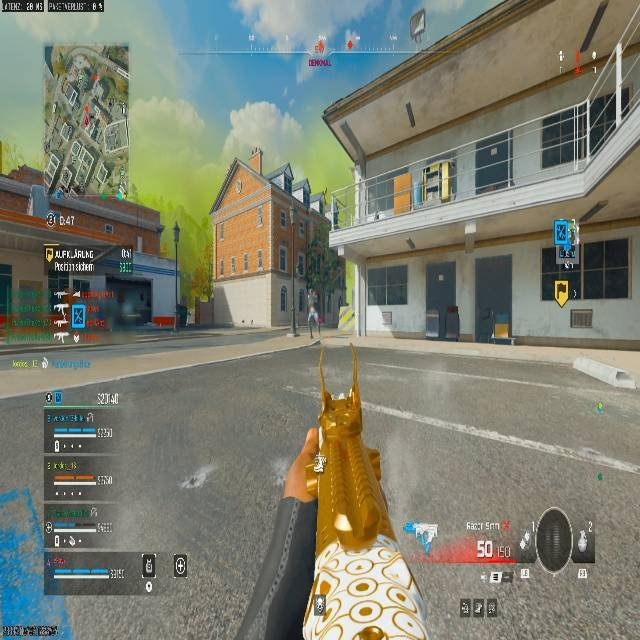player: (308, 309, 320, 336)
